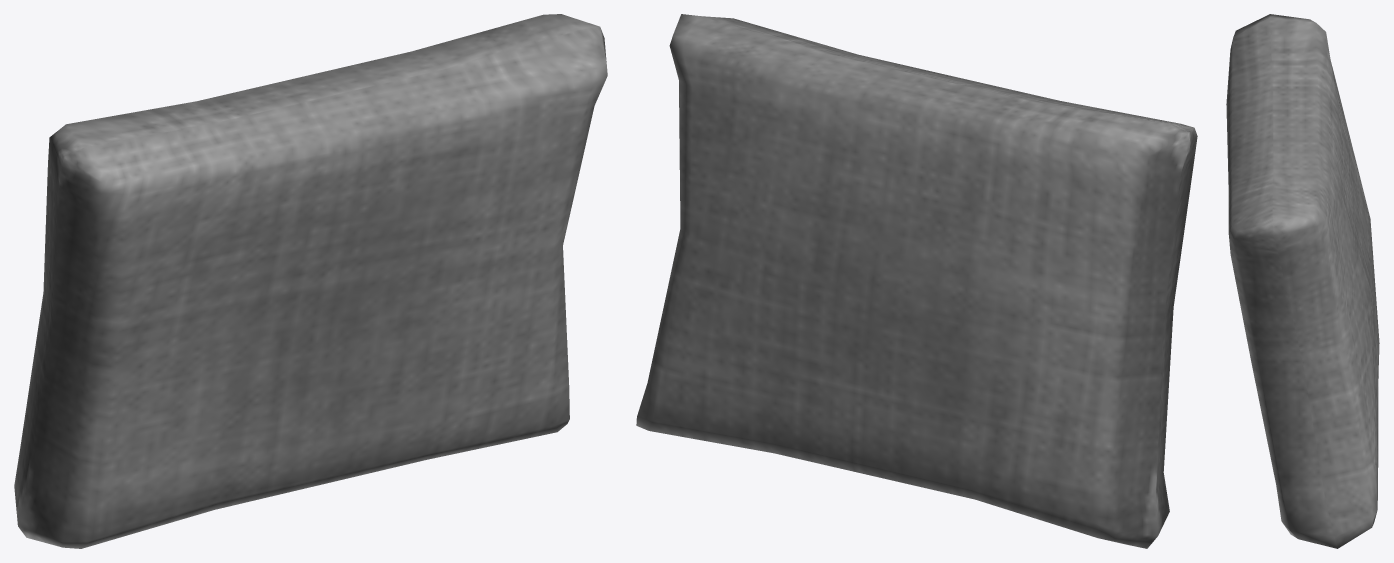
The model's file is Cushion 3.FBX.
3 renders of one model, left to right at view 1: azimuth 30°, elevation 25°; view 2: azimuth 150°, elevation 25°; view 3: azimuth 270°, elevation 25°, orthographic. The views are drawn at different scales.
Parts seen in each view (by area): view 1: Cushion03; view 2: Cushion03; view 3: Cushion03.
Part boxes in pixels (x1,y1,x2,y2): Cushion03: (14,14,607,548); Cushion03: (636,14,1197,548); Cushion03: (1226,14,1379,548).
Bounding box in the file's own units: 0.7982 × 0.5812 × 0.2427.
Materials: 1 (1 with a texture image).
